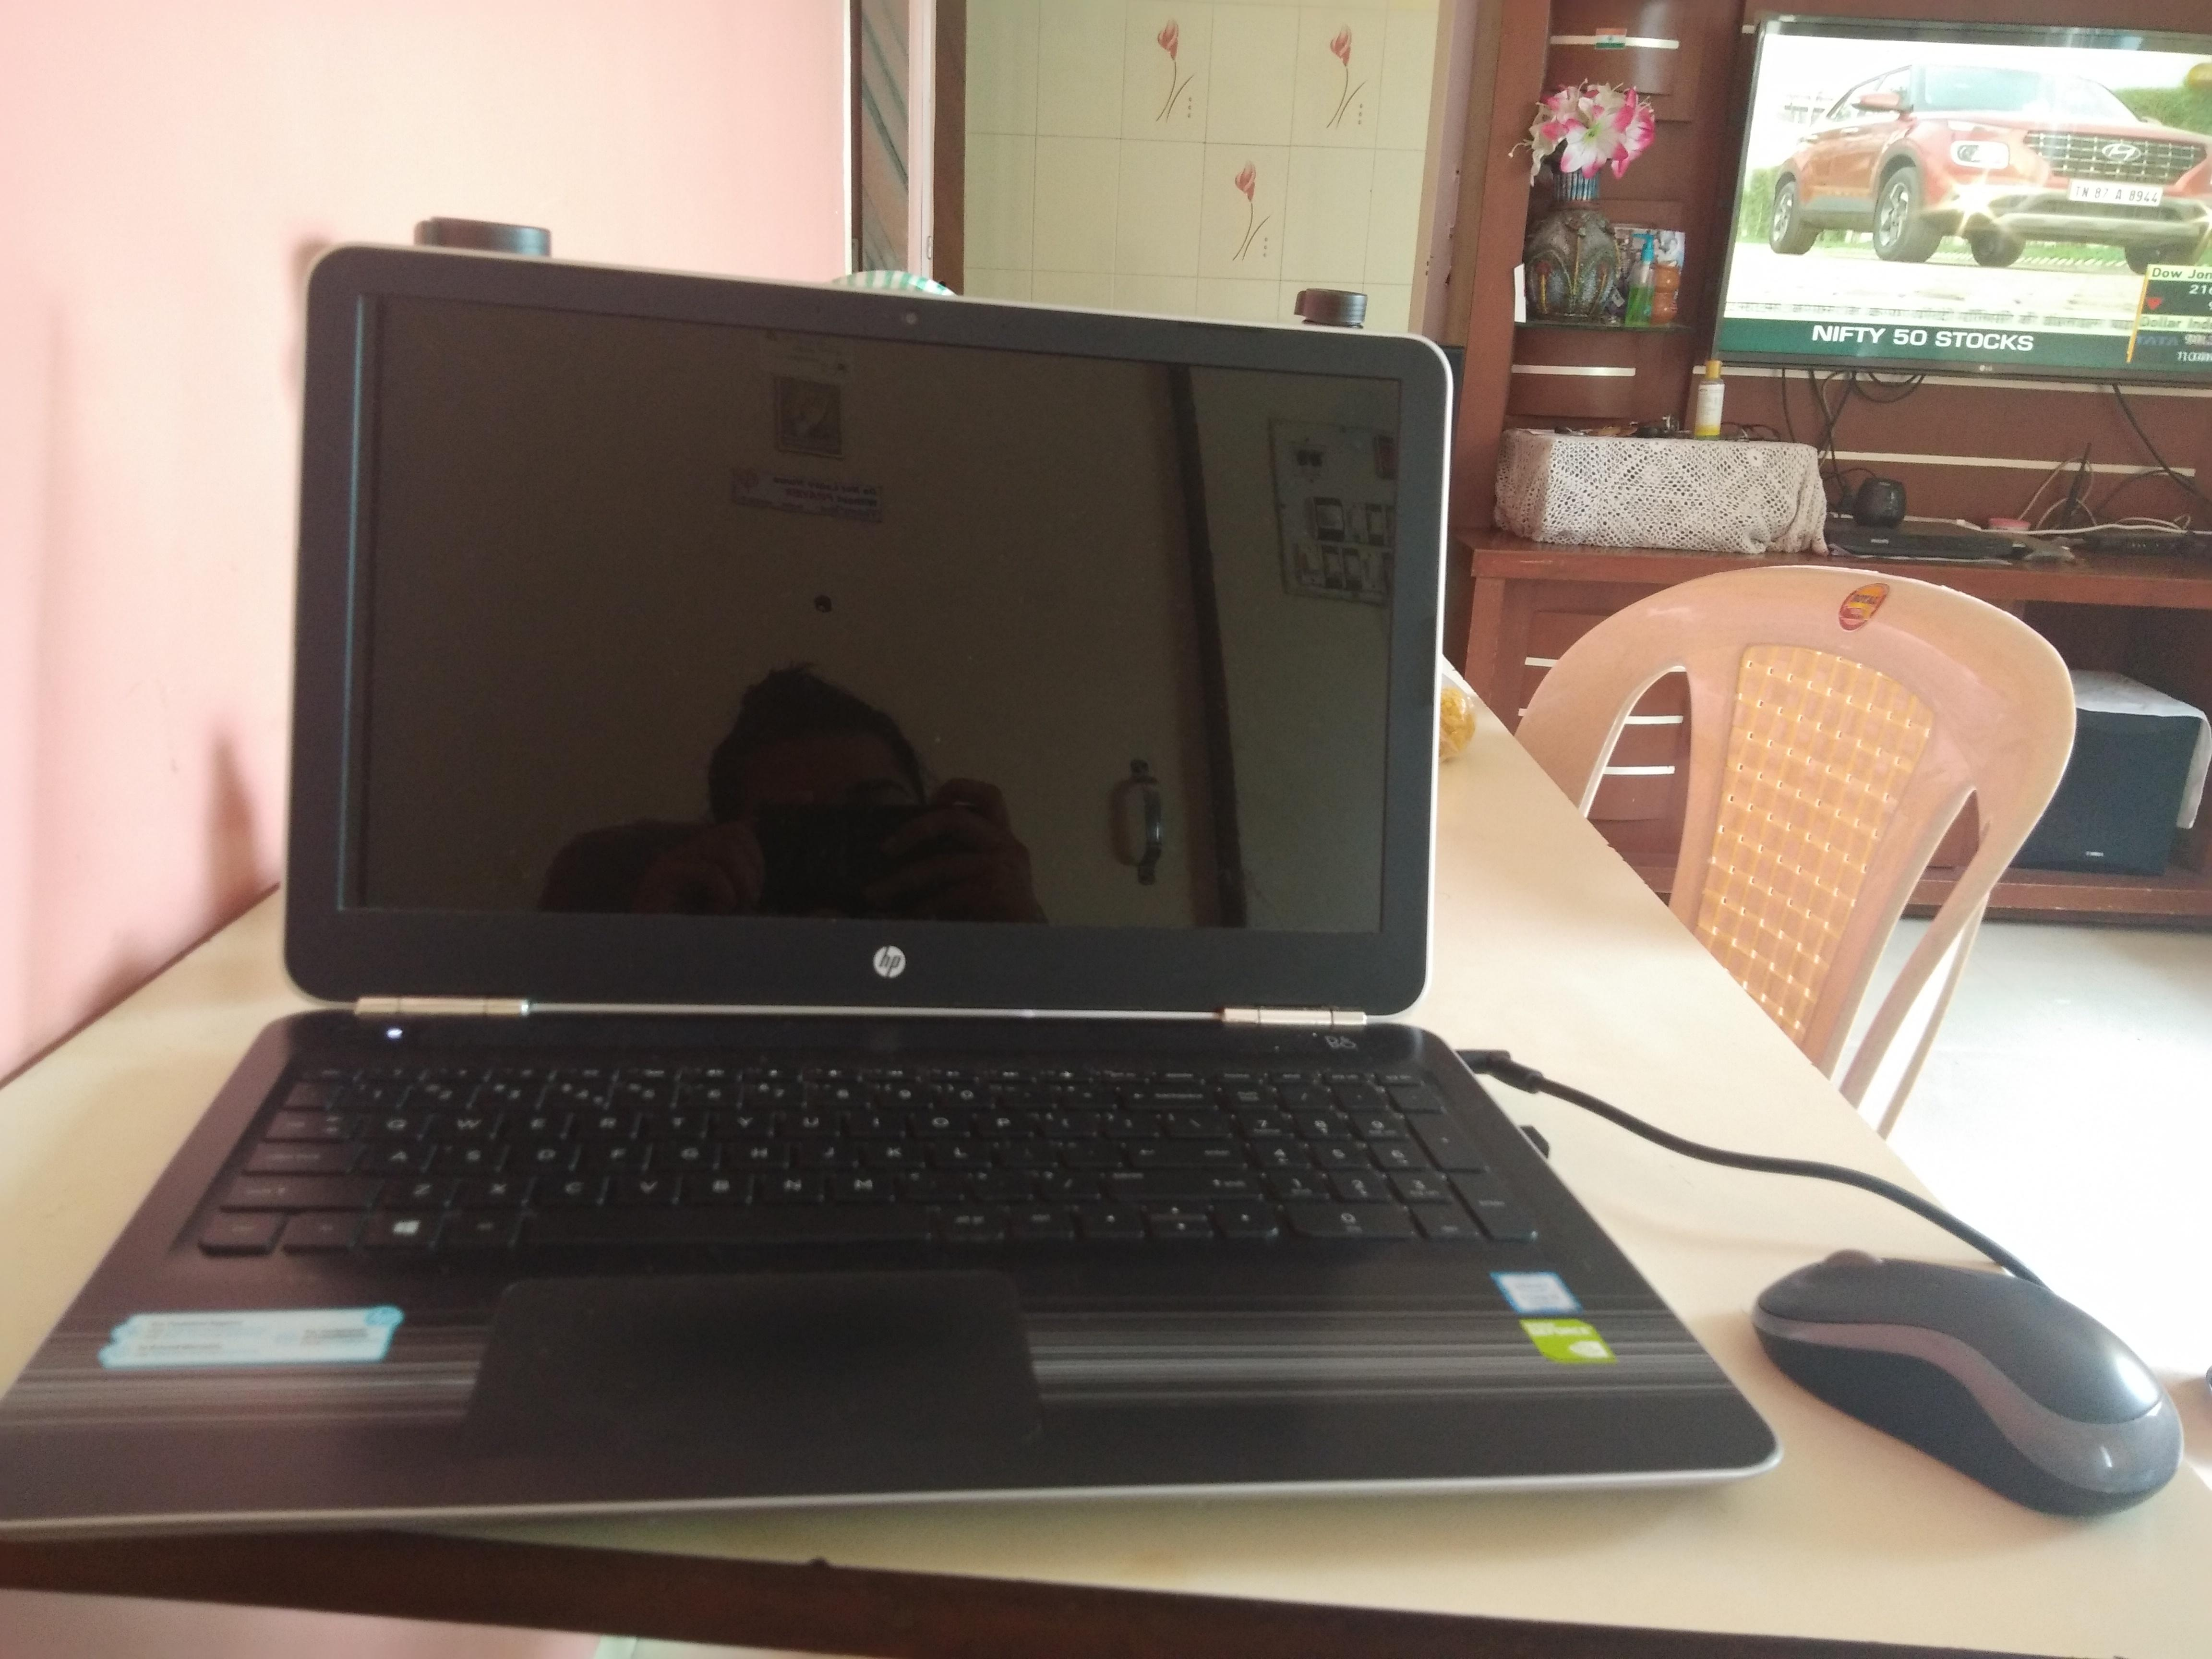laptop: (0, 202, 1808, 1588)
mouse: (1759, 1199, 2207, 1532)
